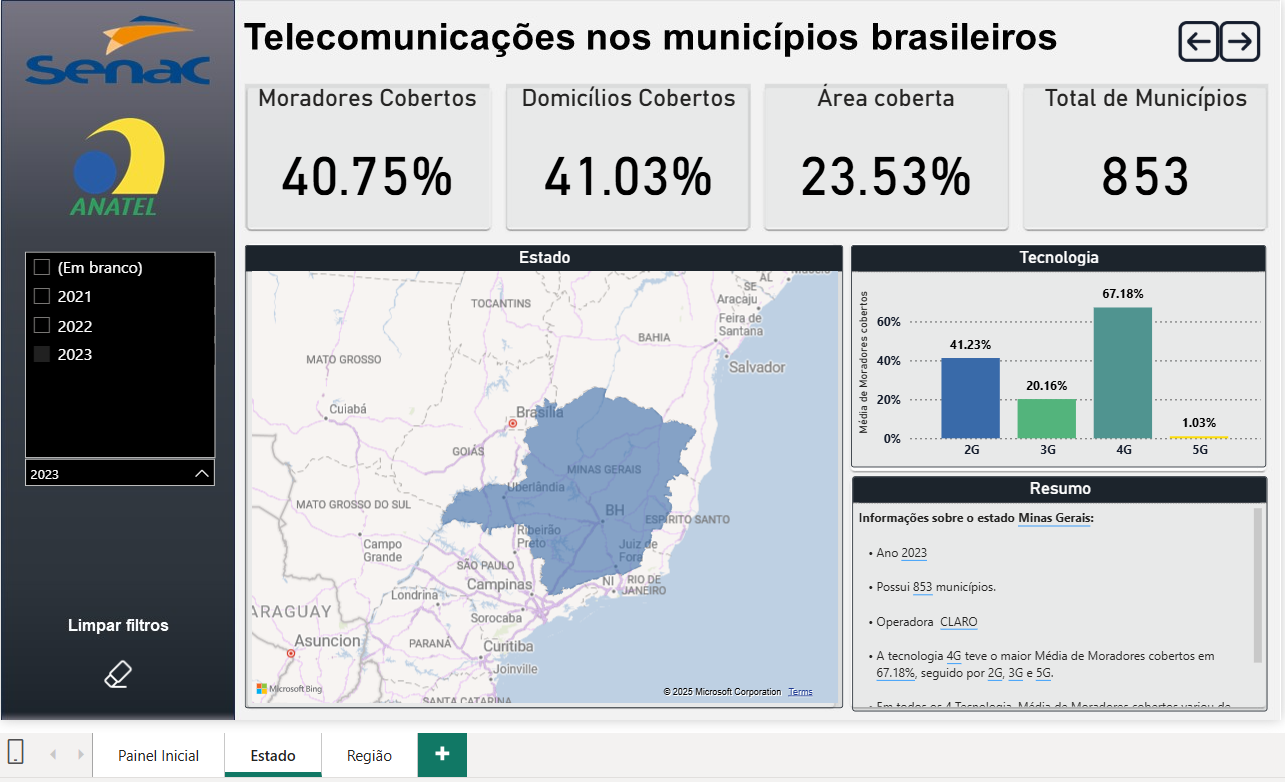

The page's visual inventory and layout, read from the dashboard file:
{"tool":"powerbi","page":{"name":"Estado","canvas":[1280,720],"ordinal":1},"visuals":[{"type":"slicer","fields":{"Values":["Estado.Estado"]},"box":[13.8,256.2,210,90],"z":0},{"type":"slicer","fields":{"Values":["Operadora.Operadora"]},"box":[13.3,346.7,210,91.7],"z":1000},{"type":"card","title":"Moradores Cobertos","fields":{"Values":["Avg(Fato.% Moradores cobertos)"]},"box":[243.8,83.8,245,143.8],"z":2000},{"type":"filledMap","fields":{"Category":["Estado.Estado"]},"box":[243.3,245,598.3,463.3],"z":3000},{"type":"clusteredColumnChart","title":"Tecnologia","fields":{"Category":["Tecnologia.Tecnologia"],"Y":["Avg(Fato.Moradores cobertos)"]},"box":[850,245,415,222.5],"z":4000},{"type":"slicer","fields":{"Values":["Calendario.Date.Variation.Hierarquia de datas.Ano"]},"box":[13.8,430,210,92.5],"z":5000},{"type":"card","title":"Domicílios Cobertos","fields":{"Values":["Avg(Fato.Domicílios cobertos)"]},"box":[505,83.8,245,143.8],"z":6000},{"type":"image","box":[12.7,653.2,208.2,41.3],"z":7000},{"type":"image","box":[1211.1,15.9,55.6,50.9],"z":8000},{"type":"image","box":[1168.2,15.9,58.8,50.9],"z":9000},{"type":"card","title":"Área coberta","fields":{"Values":["Avg(Fato.% Área coberta)"]},"box":[763.8,83.8,242.5,143.8],"z":10000},{"type":"textbox","title":"Resumo","box":[851.7,476.7,415,235],"z":11000},{"type":"card","title":"Total de Municípios ","fields":{"Values":["Median(Fato.TotalMunicípiosEstado)"]},"box":[1022.5,83.8,245,143.8],"z":12000}]}

Visuals, with their boxes on the page's 1280x720 design canvas (x1, y1, x2, y2). These are canvas units, not pixel positions in the 1285x782 screenshot, which may show the page scaled, cropped or inside an application window:
slicer - Estado.Estado: (x1=14, y1=256, x2=224, y2=346)
slicer - Operadora.Operadora: (x1=13, y1=347, x2=223, y2=438)
"Moradores Cobertos" card: (x1=244, y1=84, x2=489, y2=228)
filledMap - Estado.Estado: (x1=243, y1=245, x2=842, y2=708)
"Tecnologia" clusteredColumnChart: (x1=850, y1=245, x2=1265, y2=468)
slicer - Calendario.Date.Variation.Hierarquia de datas.Ano: (x1=14, y1=430, x2=224, y2=522)
"Domicílios Cobertos" card: (x1=505, y1=84, x2=750, y2=228)
image: (x1=13, y1=653, x2=221, y2=694)
image: (x1=1211, y1=16, x2=1267, y2=67)
image: (x1=1168, y1=16, x2=1227, y2=67)
"Área coberta" card: (x1=764, y1=84, x2=1006, y2=228)
"Resumo" textbox: (x1=852, y1=477, x2=1267, y2=712)
"Total de Municípios " card: (x1=1022, y1=84, x2=1268, y2=228)
